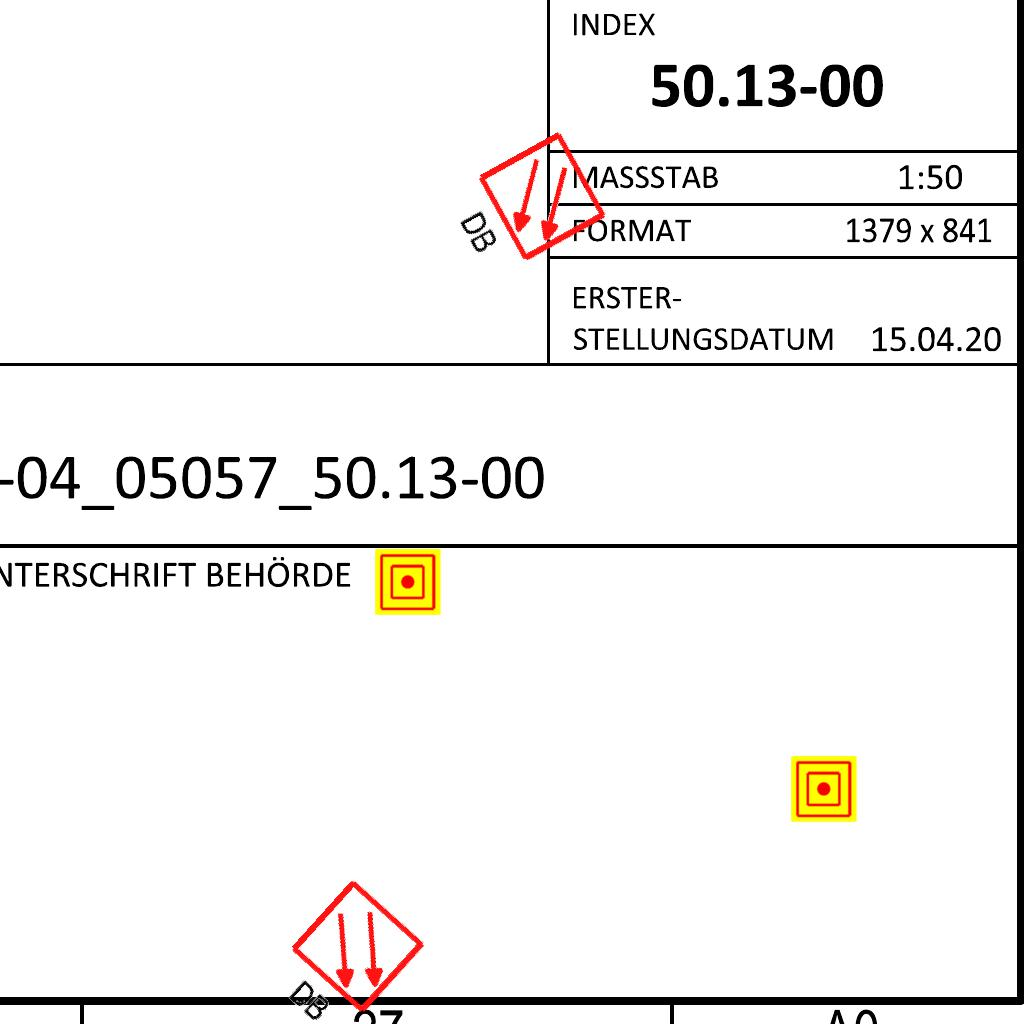DB_Melder_in_Doppelboden_mit_Revisionsoeffnung_mind_40_x_40_cm: (432, 121, 618, 294), (252, 868, 438, 1024)
NAM-Nichtautomatischer_Melder: (791, 756, 857, 822), (375, 549, 441, 615)
